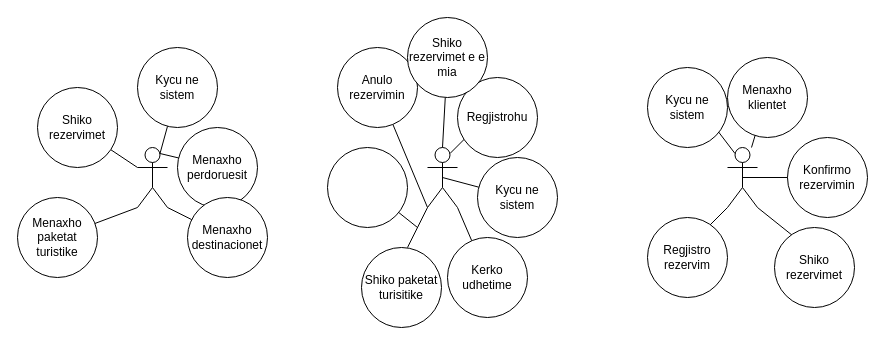
This 885x345 diagram has some shape labels left out. The shapes that lost their labels are listed below. From the top down, each one's centre as x and y in pixels, then its label:
point (152, 177): Administratori
point (367, 187): Rezervo udhetimin
point (442, 177): agjencia.klientet.Klienti
point (742, 177): Punonjesi
